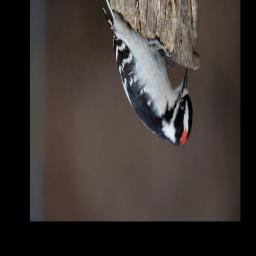Woodpecker: (94, 0, 194, 149)
